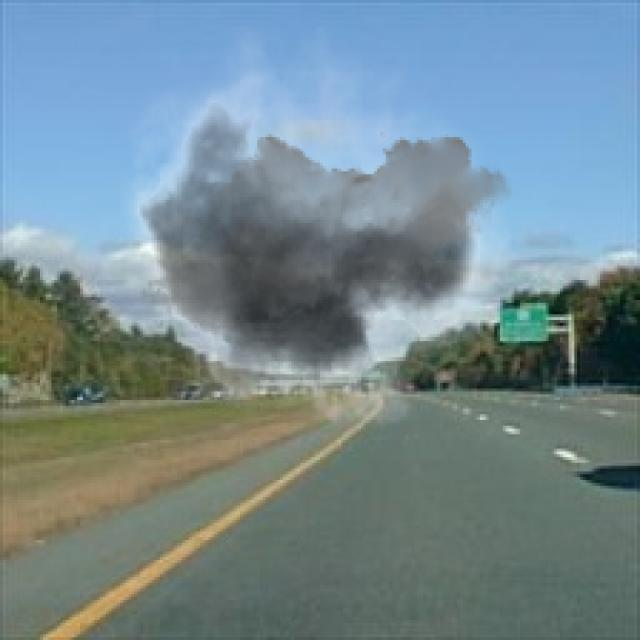Smoke: (106, 23, 512, 446)
